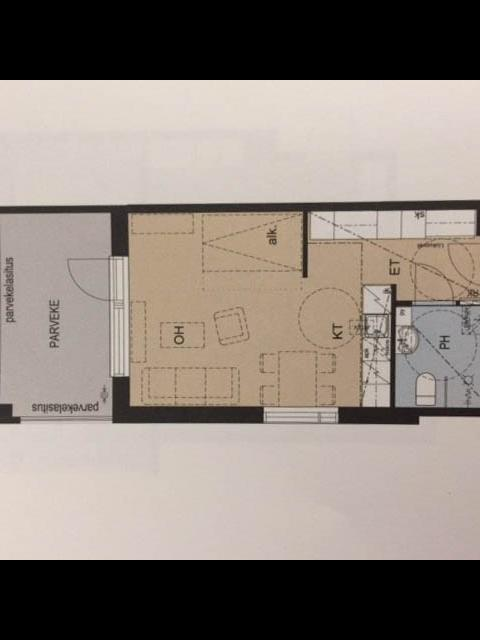door: (64, 252, 126, 302), (409, 258, 458, 308), (445, 240, 480, 288)
window: (105, 299, 137, 385), (256, 401, 346, 429), (12, 409, 118, 428), (0, 207, 4, 381)
